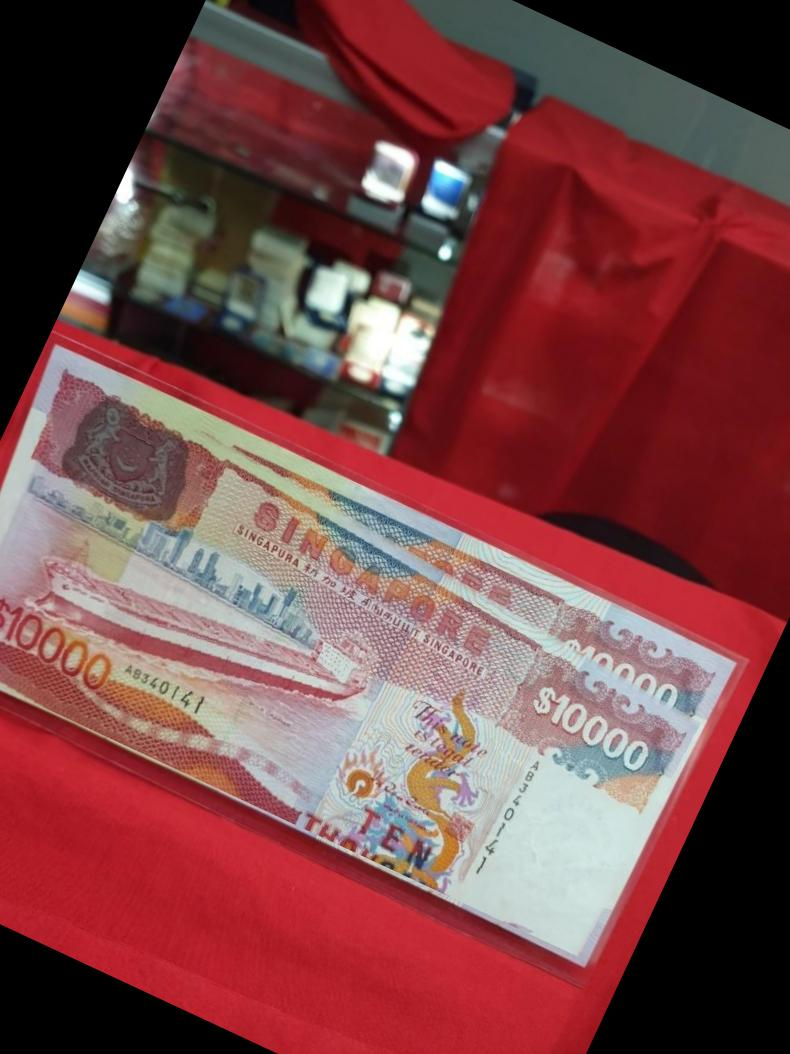10000SingaporeDollar: (0, 357, 729, 962)
